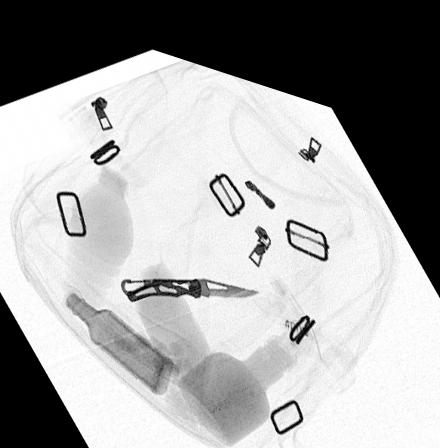Knife: (119, 264, 258, 293)
